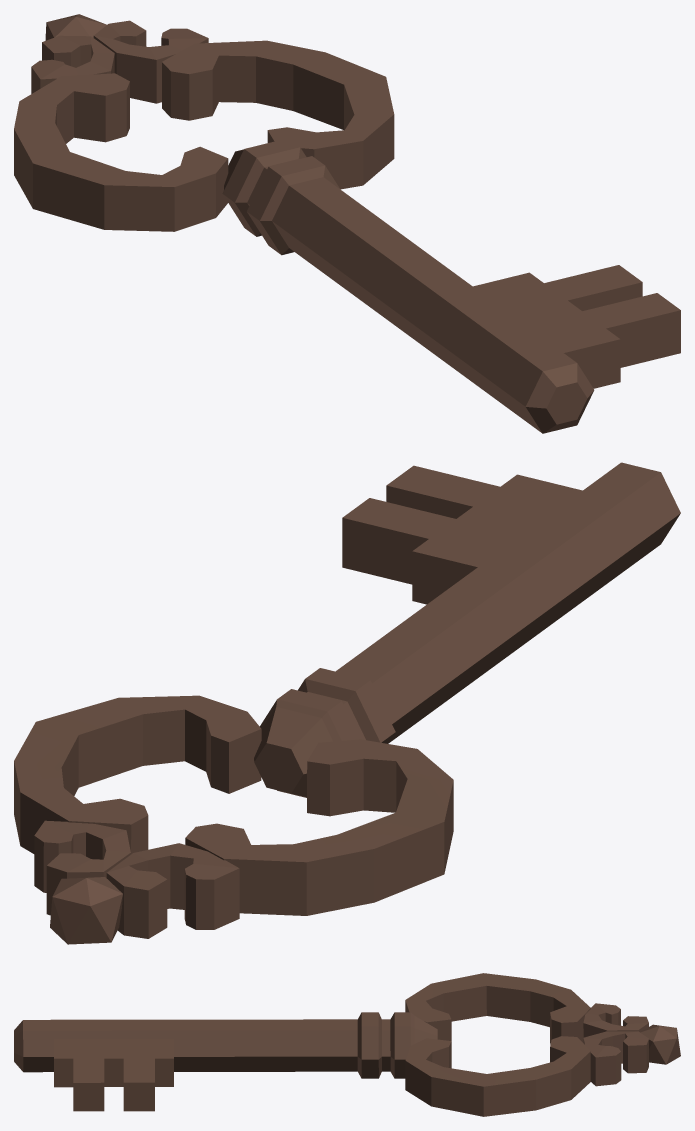
The model's file is key2.glb.
The picture shows the model from 3 angles, top to bottom: view 1: azimuth 30°, elevation 25°; view 2: azimuth 150°, elevation 25°; view 3: azimuth 270°, elevation 25°; orthographic projection. The views are drawn at different scales.
Parts seen in each view (by area): view 1: Key2; view 2: Key2; view 3: Key2.
Part boxes in pixels (left/top/right/bottom): Key2: left=14, top=14, right=680, bottom=433; Key2: left=14, top=462, right=680, bottom=944; Key2: left=14, top=973, right=680, bottom=1116.
Size of the model in its own units: 0.401 by 0.0859 by 0.9928.
